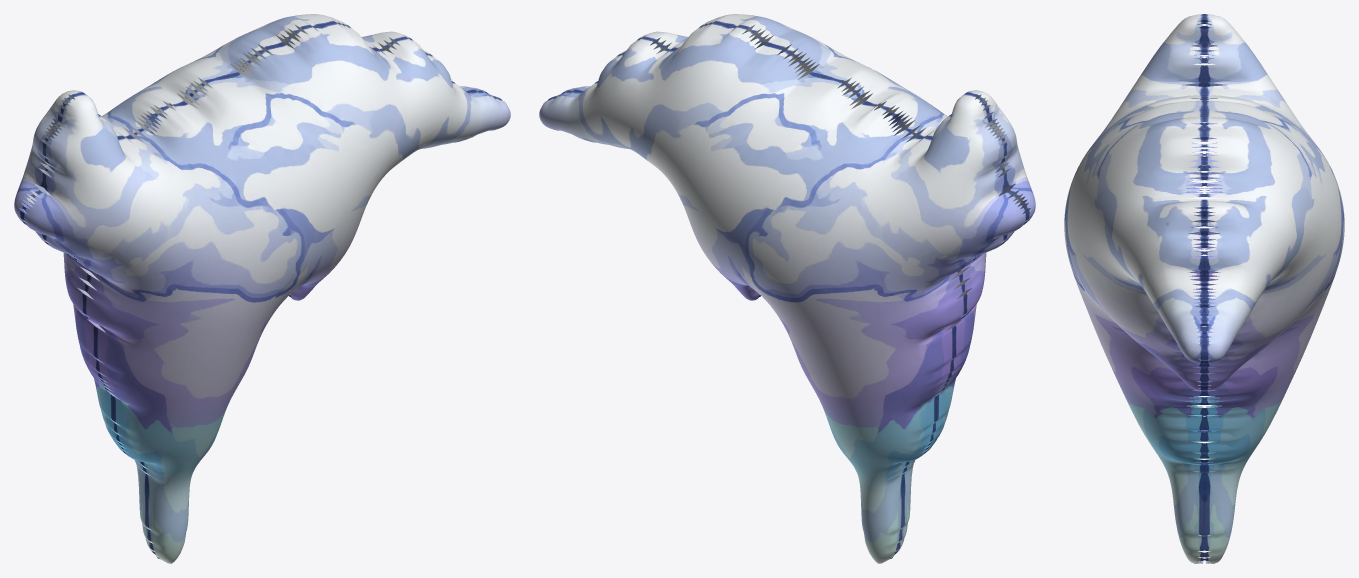
The model's file is ice_spur.glb.
3 views of the same model, side by side, from view 1: azimuth 30°, elevation 25°; view 2: azimuth 150°, elevation 25°; view 3: azimuth 270°, elevation 25° (orthographic). The views are drawn at different scales.
Visible parts, largest first — view 1: ice_spur; view 2: ice_spur; view 3: ice_spur.
Part boxes in pixels (box(x1,y1,x2,y2)): ice_spur: box(14, 14, 510, 563); ice_spur: box(539, 14, 1035, 563); ice_spur: box(1064, 14, 1344, 563).
Size of the model in its own units: 0.989 by 0.9716 by 0.4802.
Materials: 1 (1 with a texture image).
